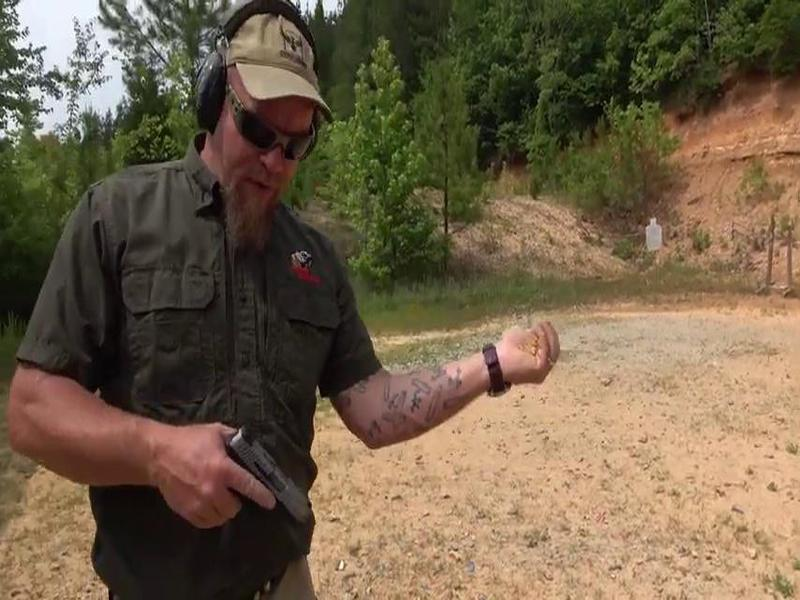Pistola: (197, 417, 317, 547)
